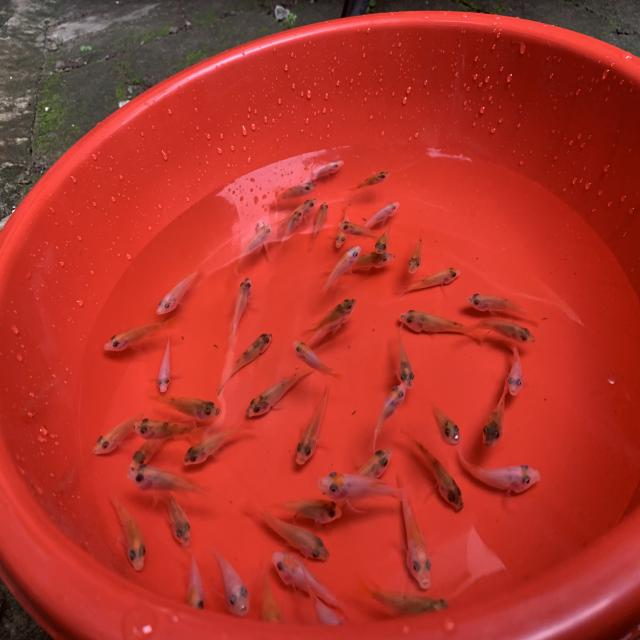nila: (385, 465, 439, 592), (403, 424, 471, 516), (242, 497, 340, 556), (275, 547, 354, 615), (451, 442, 546, 497), (179, 418, 266, 475), (90, 394, 146, 473), (100, 305, 174, 364), (241, 364, 308, 429), (122, 452, 206, 501), (218, 325, 278, 393), (146, 376, 227, 426), (288, 384, 336, 467), (155, 478, 202, 559), (460, 284, 545, 328), (319, 465, 412, 505), (358, 575, 451, 615), (124, 402, 230, 437), (110, 495, 150, 585), (153, 258, 211, 319), (346, 433, 405, 491), (222, 267, 264, 345), (125, 410, 172, 478), (366, 378, 405, 457), (476, 372, 515, 450), (392, 258, 464, 300), (270, 486, 347, 525), (210, 544, 250, 619), (314, 247, 397, 283), (304, 285, 361, 336), (288, 336, 344, 386), (150, 324, 183, 403), (466, 314, 542, 348), (394, 309, 473, 341), (317, 238, 359, 296), (423, 389, 464, 446), (390, 328, 423, 396), (254, 562, 281, 638), (274, 188, 322, 229), (398, 226, 429, 282), (356, 195, 403, 231), (303, 196, 332, 254), (304, 153, 349, 190), (182, 552, 207, 616), (506, 328, 526, 407), (348, 164, 395, 197), (254, 214, 280, 268), (236, 226, 272, 265), (371, 206, 399, 256), (336, 212, 380, 243), (275, 209, 302, 259), (266, 178, 316, 204), (333, 198, 352, 253)
